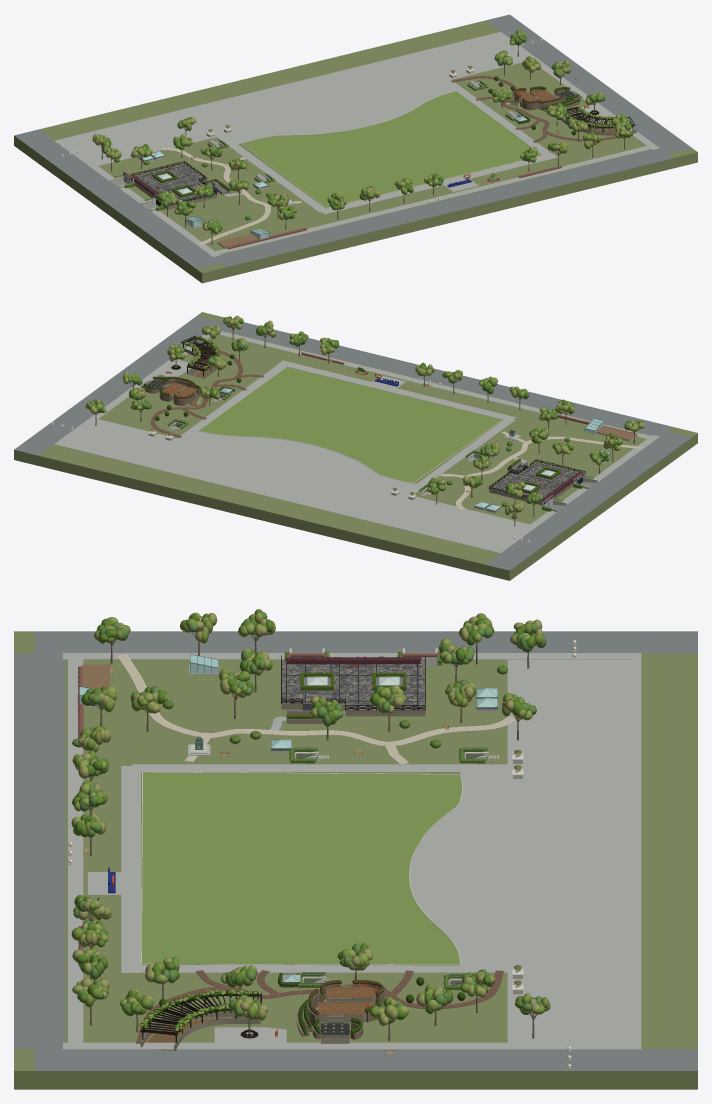
Rendered from guanghua-complete-v3.glb.
3 views of the same model, one above another, from view 1: azimuth 30°, elevation 25°; view 2: azimuth 150°, elevation 25°; view 3: azimuth 270°, elevation 25° (orthographic). The views are drawn at different scales.
Visible parts, largest first — view 1: GH_GROUND__terrain__FIN_garden_grass, GH_PLAZA__concave-forecourt__FIN_pavers, GH_LAWN | satellite-fixed concave north edge, GH_BOUNDARY__road__road, GH_BOUNDARY__south-road__road, GH_BOUNDARY__south-sidewalk__FIN_pavers, GH_BOUNDARY__sidewalk__FIN_pavers, GH_EDGE_PATHS__edge-walk__FIN_pavers, GH_VEGETATION__tree-canopies__FIN_leaf2, GH_VEGETATION__tree-canopies__FIN_leaf1, GH_VEGETATION__tree-canopies__FIN_leaf0, GH_VEGETATION__tree-canopies__FIN_leaf3 (+6 smaller); view 2: GH_GROUND__terrain__FIN_garden_grass, GH_PLAZA__concave-forecourt__FIN_pavers, GH_LAWN | satellite-fixed concave north edge, GH_BOUNDARY__road__road, GH_BOUNDARY__south-road__road, GH_BOUNDARY__sidewalk__FIN_pavers, GH_EDGE_PATHS__edge-walk__FIN_pavers, GH_VEGETATION__tree-canopies__FIN_leaf2, GH_VEGETATION__tree-canopies__FIN_leaf4, GH_VEGETATION__tree-canopies__FIN_leaf0, GH_BOUNDARY__south-sidewalk__FIN_pavers, GH_VEGETATION__tree-canopies__FIN_leaf1 (+7 smaller); view 3: GH_GROUND__terrain__FIN_garden_grass, GH_PLAZA__concave-forecourt__FIN_pavers, GH_LAWN | satellite-fixed concave north edge, GH_BOUNDARY__road__road, GH_BOUNDARY__south-road__road, GH_BOUNDARY__sidewalk__FIN_pavers, GH_EDGE_PATHS__edge-walk__FIN_pavers, GH_VEGETATION__tree-canopies__FIN_leaf1, GH_VEGETATION__tree-canopies__FIN_leaf0, GH_VEGETATION__tree-canopies__FIN_leaf2, GH_VEGETATION__tree-canopies__FIN_leaf4, GH_VEGETATION__tree-canopies__FIN_leaf3 (+19 smaller).
Part boxes in pixels (x1,y1,x2,y2): GH_GROUND__terrain__FIN_garden_grass: [14, 20, 697, 283]; GH_PLAZA__concave-forecourt__FIN_pavers: [54, 32, 526, 165]; GH_LAWN | satellite-fixed concave north edge: [242, 91, 541, 207]; GH_BOUNDARY__road__road: [14, 14, 691, 268]; GH_BOUNDARY__south-road__road: [213, 148, 673, 266]; GH_BOUNDARY__south-sidewalk__FIN_pavers: [215, 146, 650, 254]; GH_BOUNDARY__sidewalk__FIN_pavers: [56, 33, 659, 257]; GH_EDGE_PATHS__edge-walk__FIN_pavers: [216, 79, 551, 212]; GH_VEGETATION__tree-canopies__FIN_leaf2: [94, 32, 629, 234]; GH_VEGETATION__tree-canopies__FIN_leaf1: [92, 29, 631, 230]; GH_VEGETATION__tree-canopies__FIN_leaf0: [101, 34, 633, 231]; GH_VEGETATION__tree-canopies__FIN_leaf3: [98, 31, 631, 231]; GH_GROUND__terrain__FIN_garden_grass: [14, 312, 697, 580]; GH_PLAZA__concave-forecourt__FIN_pavers: [54, 419, 529, 553]; GH_LAWN | satellite-fixed concave north edge: [199, 367, 502, 482]; GH_BOUNDARY__road__road: [14, 316, 692, 570]; GH_BOUNDARY__south-road__road: [216, 320, 672, 436]; GH_BOUNDARY__sidewalk__FIN_pavers: [56, 334, 659, 551]; GH_EDGE_PATHS__edge-walk__FIN_pavers: [177, 364, 514, 494]; GH_VEGETATION__tree-canopies__FIN_leaf2: [88, 317, 642, 512]; GH_VEGETATION__tree-canopies__FIN_leaf4: [87, 315, 644, 512]; GH_VEGETATION__tree-canopies__FIN_leaf0: [95, 316, 642, 506]; GH_BOUNDARY__south-sidewalk__FIN_pavers: [219, 331, 650, 438]; GH_VEGETATION__tree-canopies__FIN_leaf1: [85, 317, 639, 512]; GH_GROUND__terrain__FIN_garden_grass: [14, 631, 697, 1089]; GH_PLAZA__concave-forecourt__FIN_pavers: [410, 653, 641, 1049]; GH_LAWN | satellite-fixed concave north edge: [142, 772, 462, 964]; GH_BOUNDARY__road__road: [34, 631, 697, 1072]; GH_BOUNDARY__south-road__road: [14, 653, 65, 1049]; GH_BOUNDARY__sidewalk__FIN_pavers: [63, 653, 633, 1049]; GH_EDGE_PATHS__edge-walk__FIN_pavers: [132, 764, 507, 972]; GH_VEGETATION__tree-canopies__FIN_leaf1: [71, 613, 548, 1019]; GH_VEGETATION__tree-canopies__FIN_leaf0: [72, 609, 541, 1023]; GH_VEGETATION__tree-canopies__FIN_leaf2: [71, 612, 550, 1025]; GH_VEGETATION__tree-canopies__FIN_leaf4: [72, 613, 550, 1025]; GH_VEGETATION__tree-canopies__FIN_leaf3: [72, 611, 546, 1019].
Size of the model in its own units: 135 by 9.77 by 88.67.
Materials: 73 (29 with a texture image).
